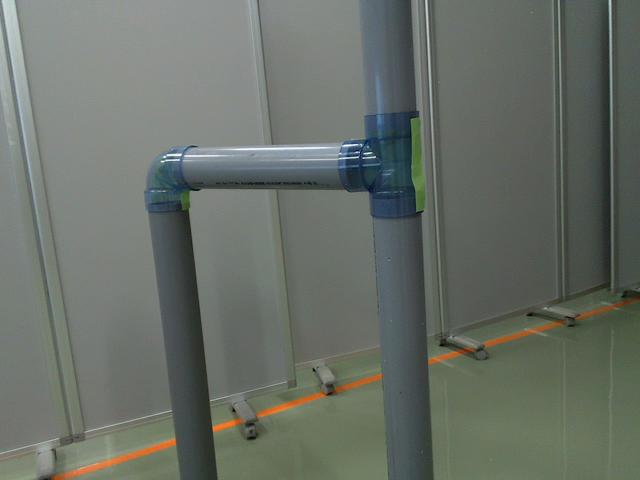bent: (144, 145, 208, 219)
junction: (338, 111, 422, 220)
